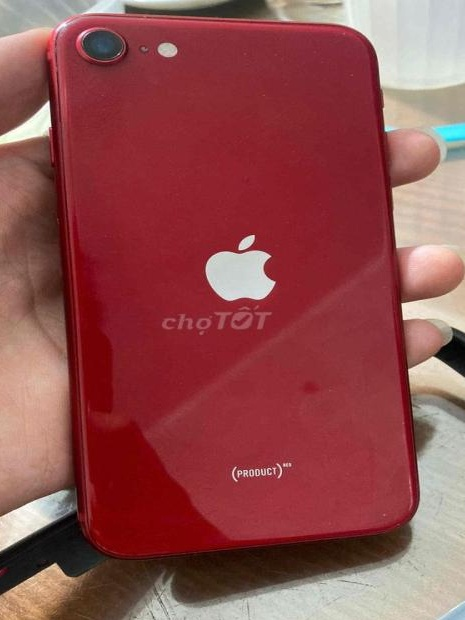scratch: (237, 31, 382, 93), (82, 11, 340, 29), (48, 11, 67, 123), (93, 536, 123, 554), (377, 506, 390, 520), (326, 519, 338, 528), (394, 521, 407, 529)
